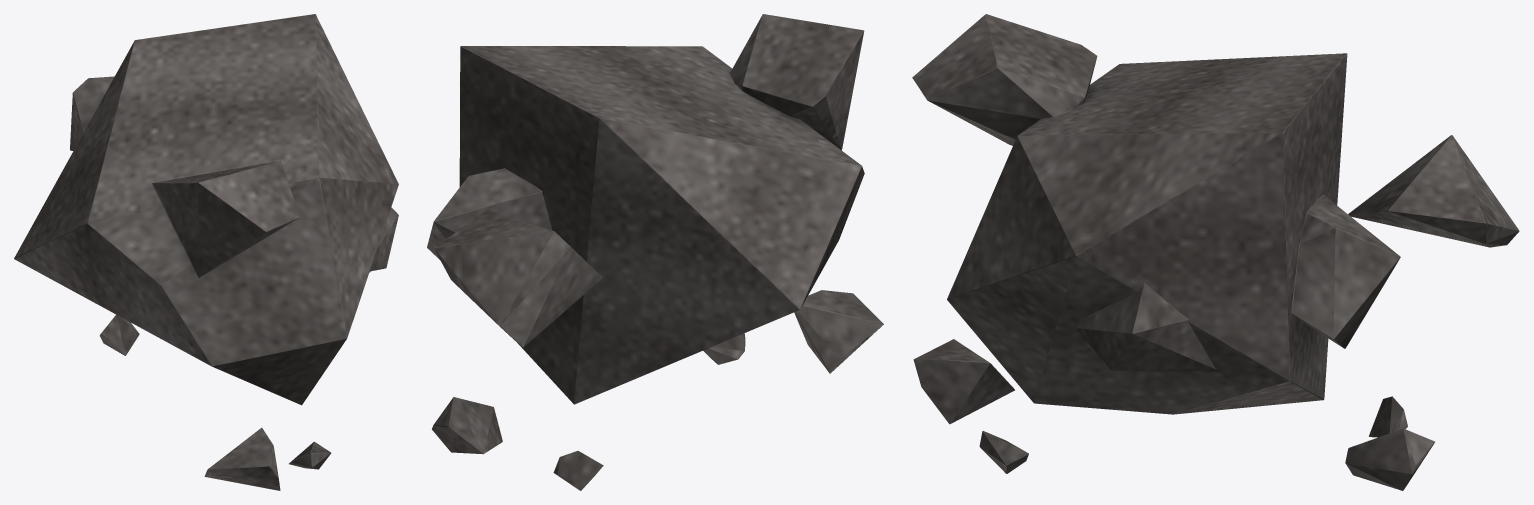
File: boulder_32.glb
3 renders of one model, left to right at view 1: azimuth 30°, elevation 25°; view 2: azimuth 150°, elevation 25°; view 3: azimuth 270°, elevation 25°, orthographic. The views are drawn at different scales.
Parts seen in each view (by area): view 1: boulder_32_c0; view 2: boulder_32_c0; view 3: boulder_32_c0.
Part boxes in pixels (x1,y1,x2,y2): boulder_32_c0: (14,14,398,490); boulder_32_c0: (427,14,883,490); boulder_32_c0: (912,14,1519,490).
Size of the model in its own units: 1.68 by 1.69 by 2.28.
1 material, 1 textured.
